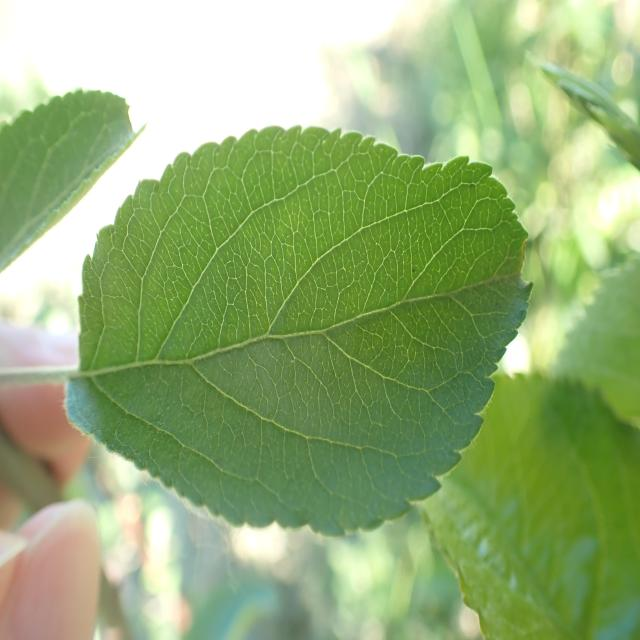healthy: (63, 124, 534, 536), (420, 370, 640, 640), (0, 88, 147, 274)
